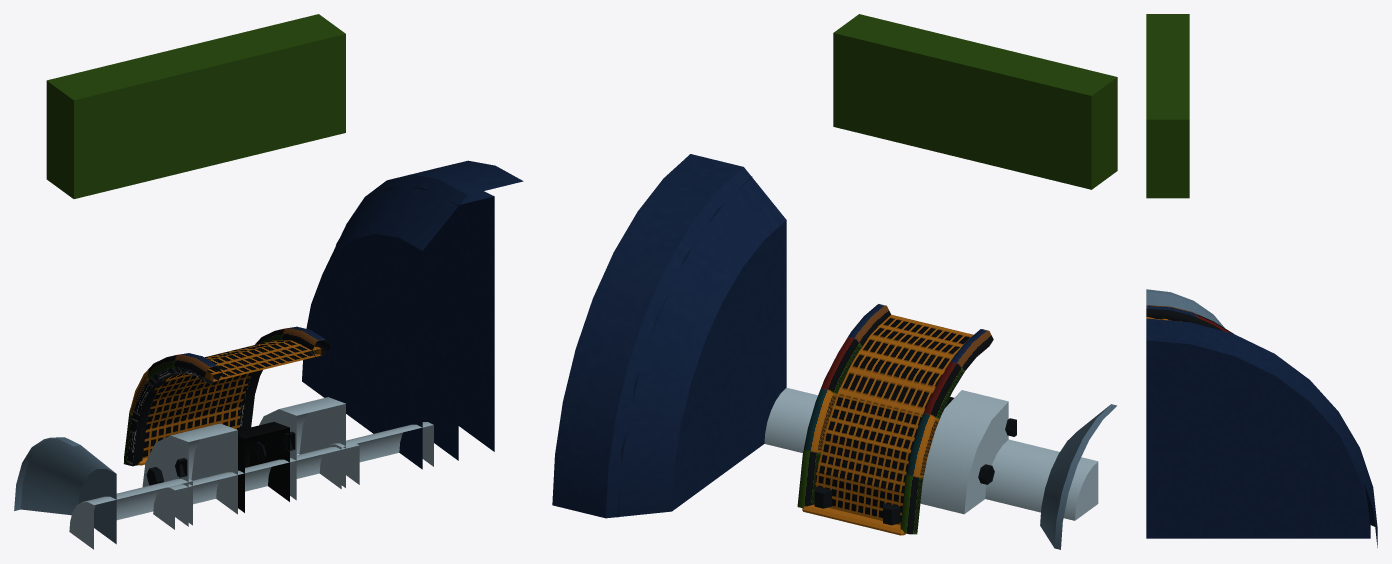
Rendered from cell_15.obj.
3 views of the same model, side by side, from view 1: azimuth 30°, elevation 25°; view 2: azimuth 150°, elevation 25°; view 3: azimuth 270°, elevation 25° (orthographic). The views are drawn at different scales.
Visible parts, largest first — view 1: cell_15; view 2: cell_15; view 3: cell_15.
Boxes of the visible parts, bbox=[...] form: cell_15: bbox=[14, 14, 523, 549]; cell_15: bbox=[552, 14, 1117, 549]; cell_15: bbox=[1146, 14, 1377, 547].
Bounding box in the file's own units: 1 × 0.965 × 0.56.
